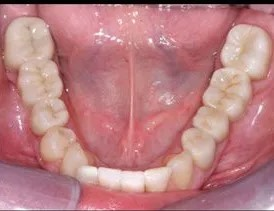LL1BC_healthy: (182, 127, 215, 170)
LL1M_decay: (203, 68, 251, 119)
LL2BC_healthy: (192, 105, 231, 140)
LL2M_healthy: (220, 21, 271, 80)
LLCI_healthy: (123, 167, 146, 193)
LLC_healthy: (165, 149, 194, 190)
LLLI_healthy: (144, 167, 172, 192)
LR1BC_decay: (39, 127, 78, 162)
LR1M_decay: (17, 60, 63, 106)
LR2BC_decay: (30, 97, 70, 136)
LR2M_decay: (5, 15, 56, 65)
LRCI_healthy: (98, 165, 122, 189)
LRC_healthy: (60, 141, 88, 176)
LRLI_healthy: (77, 165, 99, 183)
